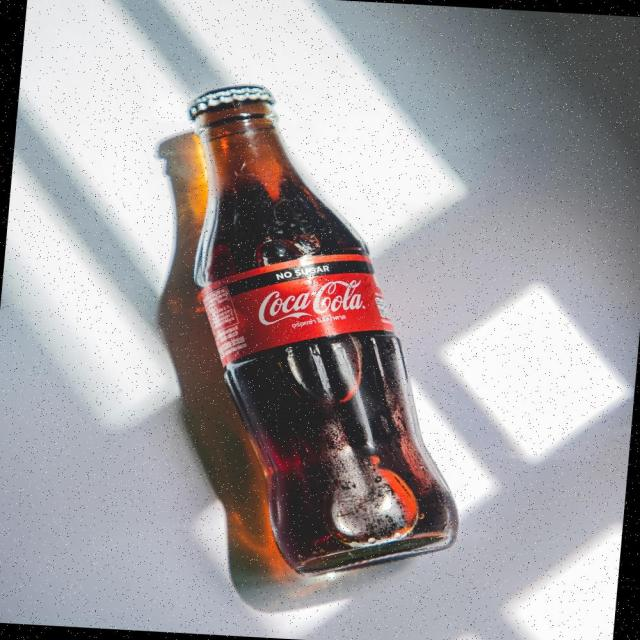coca-cola: (121, 71, 508, 583)
